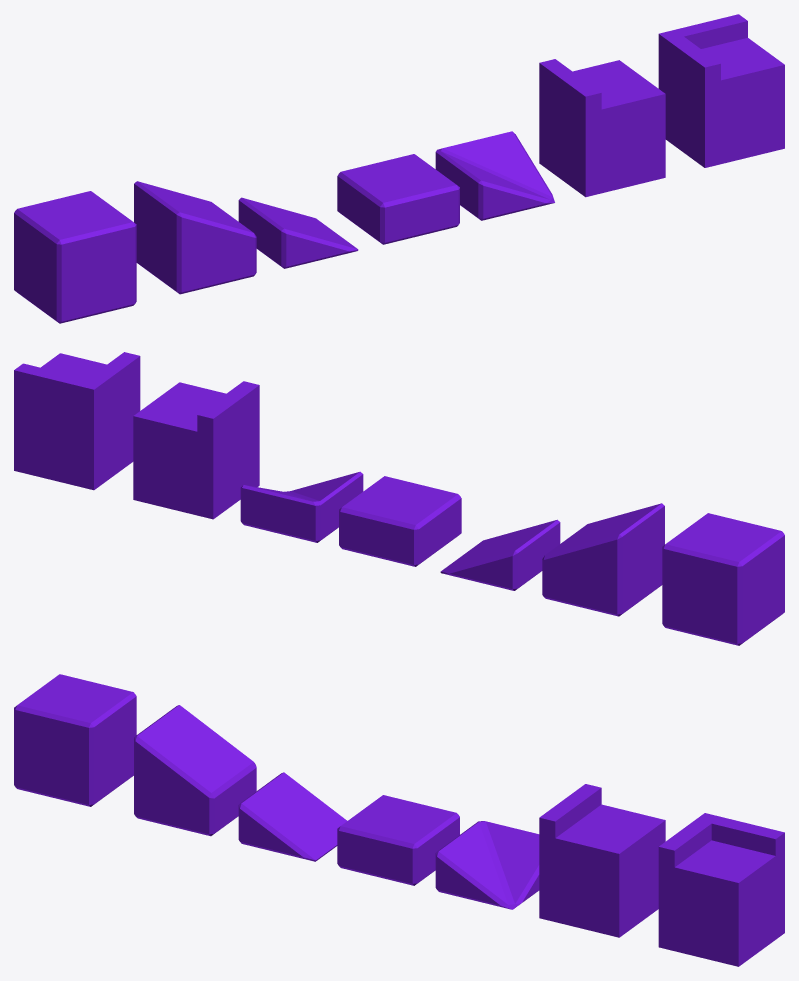
Rendered from world-block-v1.glb.
The picture shows the model from 3 angles, top to bottom: view 1: azimuth 30°, elevation 25°; view 2: azimuth 150°, elevation 25°; view 3: azimuth 330°, elevation 25°; orthographic projection.
Visible parts, largest first — view 1: BlockWallCorner, BlockWall, Block, RampTop, BlockShort, RampLowerCorner, RampButton; view 2: BlockWallCorner, BlockWall, Block, RampTop, BlockShort, RampLowerCorner, RampButton; view 3: BlockWallCorner, BlockWall, Block, RampTop, BlockShort, RampLowerCorner, RampButton.
Part boxes in pixels (x1,y1,x2,y2): BlockWallCorner: (658, 14, 784, 167); BlockWall: (539, 59, 665, 197); Block: (14, 191, 136, 323); RampTop: (134, 181, 256, 294); BlockShort: (337, 154, 459, 244); RampLowerCorner: (435, 131, 554, 220); RampButton: (238, 197, 358, 268); BlockWallCorner: (14, 352, 140, 490); BlockWall: (133, 381, 259, 519); Block: (662, 513, 784, 645); RampTop: (542, 503, 664, 616); BlockShort: (339, 476, 461, 566); RampLowerCorner: (240, 471, 363, 542); RampButton: (440, 519, 560, 590); BlockWallCorner: (658, 813, 784, 966); BlockWall: (539, 784, 665, 937); Block: (14, 674, 136, 806); RampTop: (134, 705, 256, 836); BlockShort: (337, 795, 459, 885); RampLowerCorner: (435, 821, 539, 909); RampButton: (238, 772, 346, 861).
Size of what is drawn, in the model's own units: 18.14 by 2.4 by 2.
